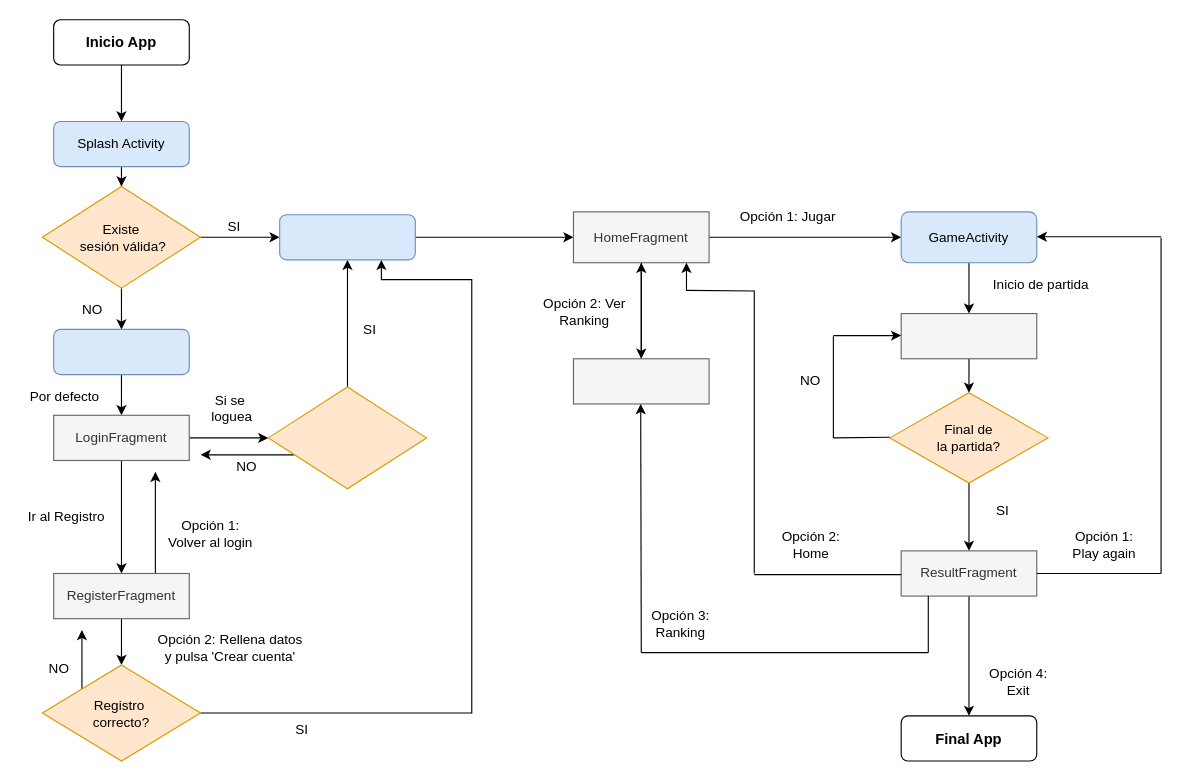
This 1190x781 diagram has some shape labels left out. The centre of each missing label's shape, as x and y in pixels:
"AuthActivity" goes at (x=121, y=351).
"Login correcto?" goes at (x=347, y=437).
"Main Activity" goes at (x=347, y=237).
"QuestionFragment" goes at (x=968, y=335).
"RankingFragment" goes at (x=640, y=381).
